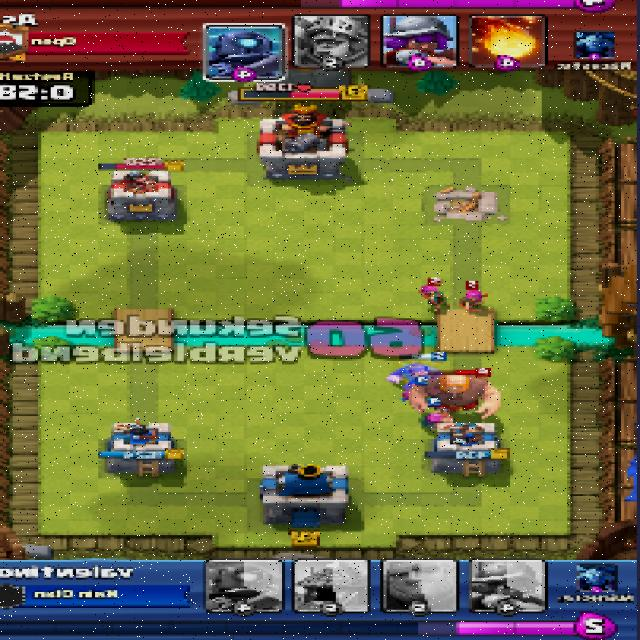Enemy-Archer: (457, 288, 490, 312), (421, 284, 448, 310)
Enemy-Giant: (408, 373, 502, 416)
Player-Archer: (418, 414, 447, 429)
Player-Knight: (388, 364, 438, 390)
